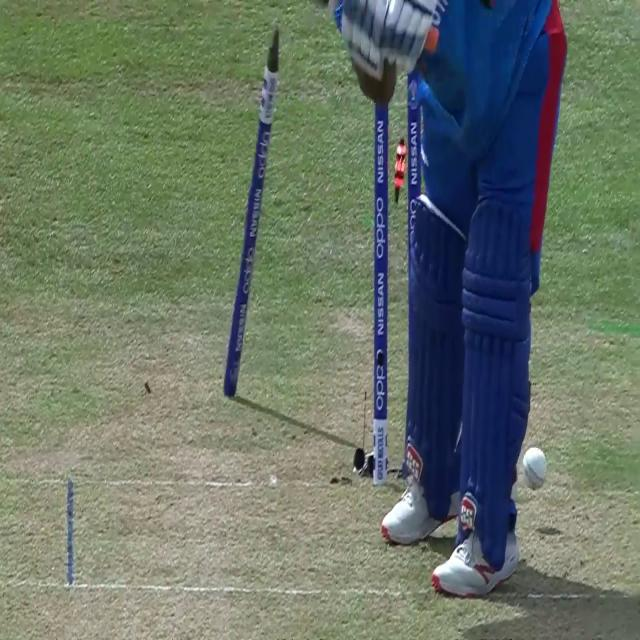ball: (522, 444, 549, 494)
